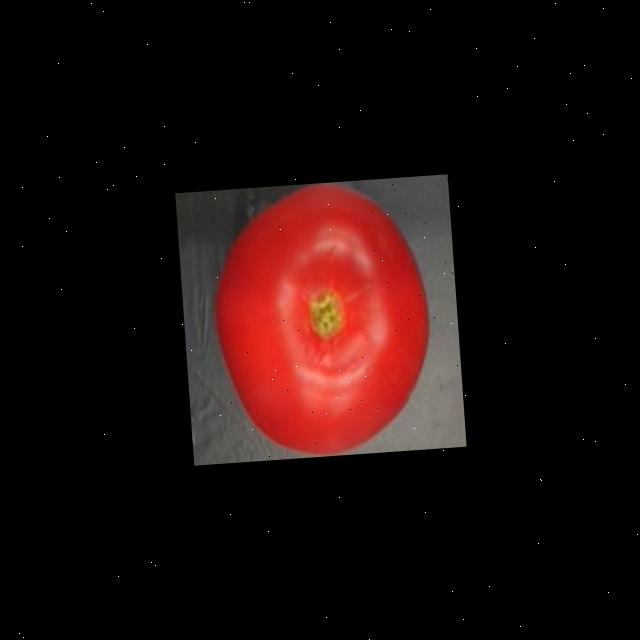tomato: (205, 178, 440, 464)
